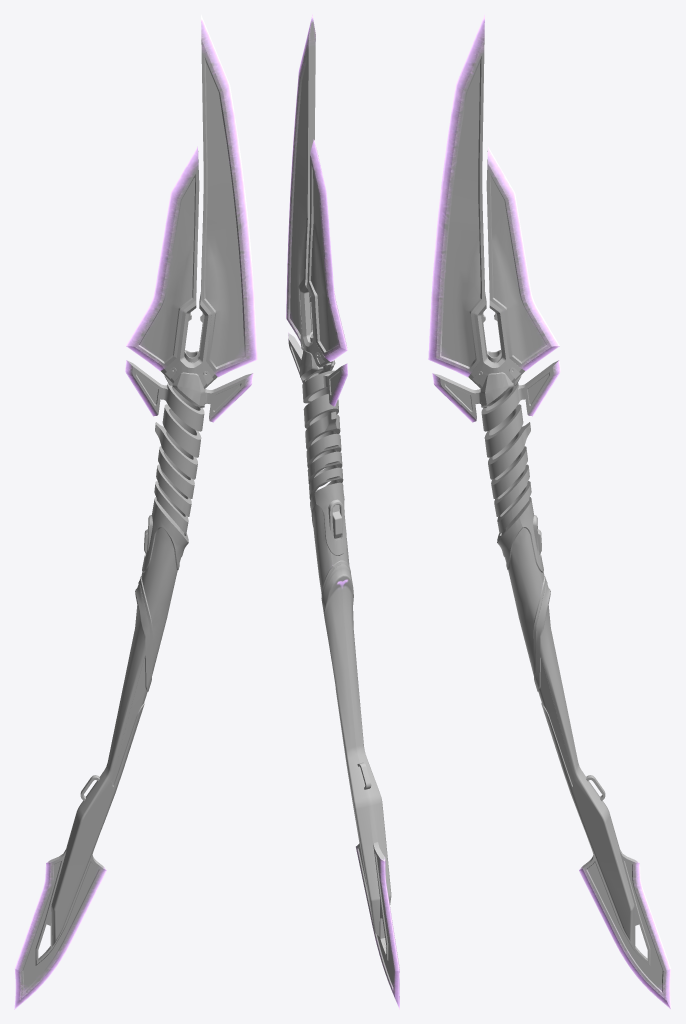
Rendered from Apex Legends Heirlooms Sky Piercer.fbx.
3 renders of one model, left to right at view 1: azimuth 90°, elevation 25°; view 2: azimuth 210°, elevation 25°; view 3: azimuth 270°, elevation 25°, orthographic. The views are drawn at different scales.
Visible parts, largest first — view 1: body_0_heirloom_agnostic_v25_prorookie.001; view 2: body_0_heirloom_agnostic_v25_prorookie.001; view 3: body_0_heirloom_agnostic_v25_prorookie.001.
Boxes of the visible parts, left/top/right/bottom form: body_0_heirloom_agnostic_v25_prorookie.001: left=14, top=14, right=257, bottom=1009; body_0_heirloom_agnostic_v25_prorookie.001: left=286, top=14, right=399, bottom=1009; body_0_heirloom_agnostic_v25_prorookie.001: left=428, top=14, right=671, bottom=1009.
Bounding box in the file's own units: 124 × 3696 × 818.
